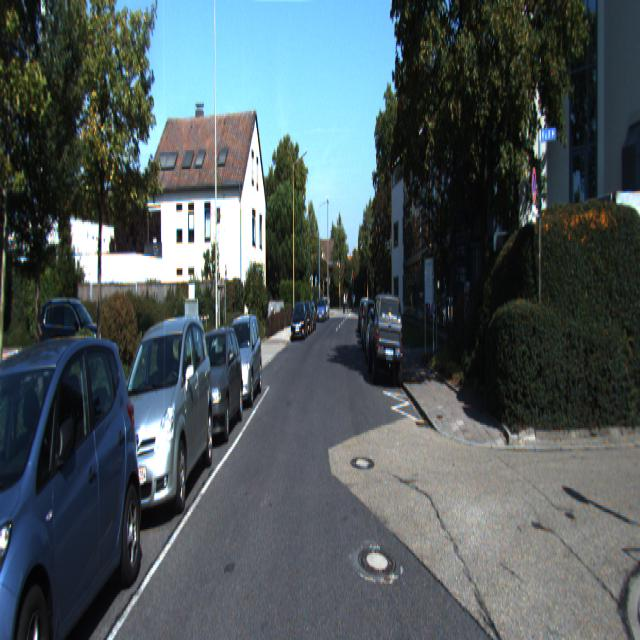Car: (0, 324, 149, 638), (102, 312, 216, 529), (182, 323, 244, 448), (218, 311, 264, 409), (367, 290, 404, 388), (290, 300, 308, 340), (316, 297, 326, 323)
